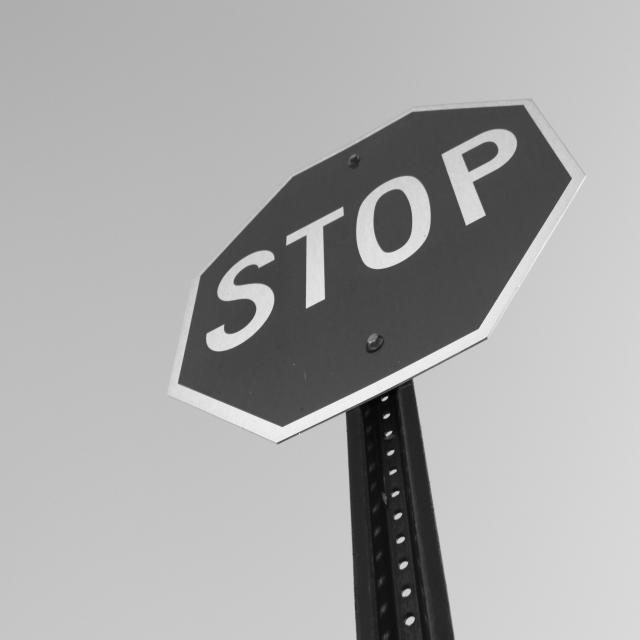Stop-sign: (149, 59, 591, 461)
